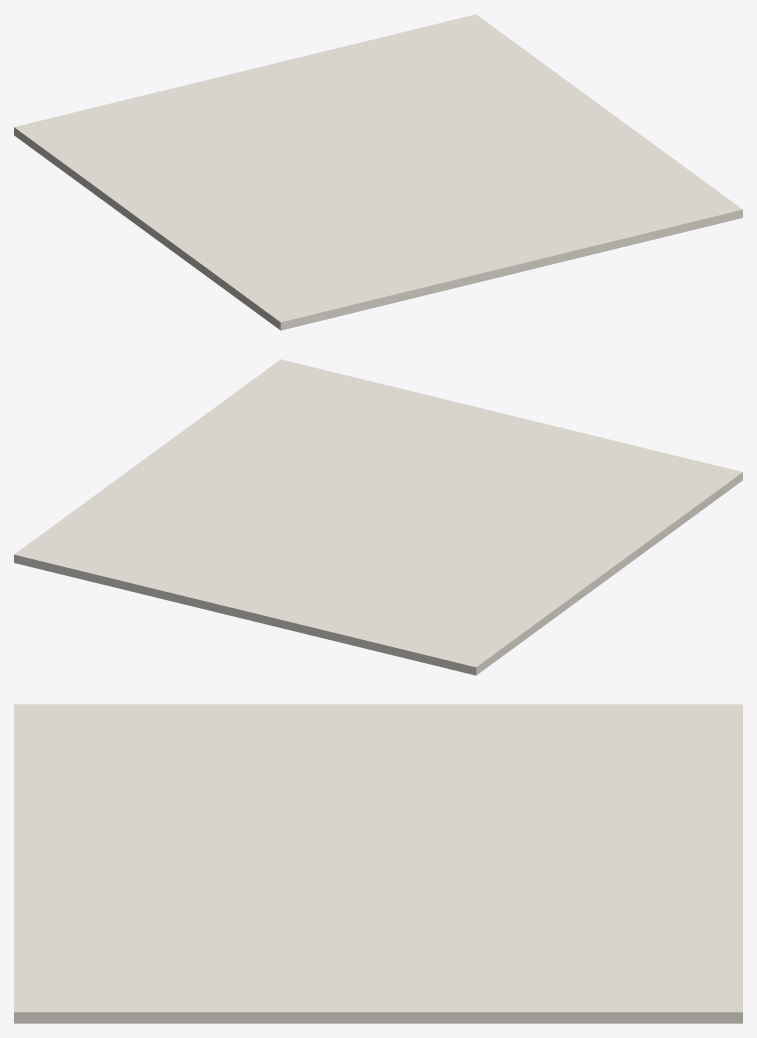
File: storey-ground.glb
3 views of the same model, one above another, from view 1: azimuth 30°, elevation 25°; view 2: azimuth 150°, elevation 25°; view 3: azimuth 270°, elevation 25° (orthographic). The views are drawn at different scales.
Visible parts, largest first — view 1: storey-ground; view 2: storey-ground; view 3: storey-ground.
Boxes of the visible parts, x1=… form: storey-ground: x1=14, y1=14, x2=742, y2=330; storey-ground: x1=14, y1=359, x2=742, y2=675; storey-ground: x1=14, y1=704, x2=742, y2=1023.
Size of the model in its own units: 14 by 0.24 by 14.
Materials: 1 (1 with a texture image).
